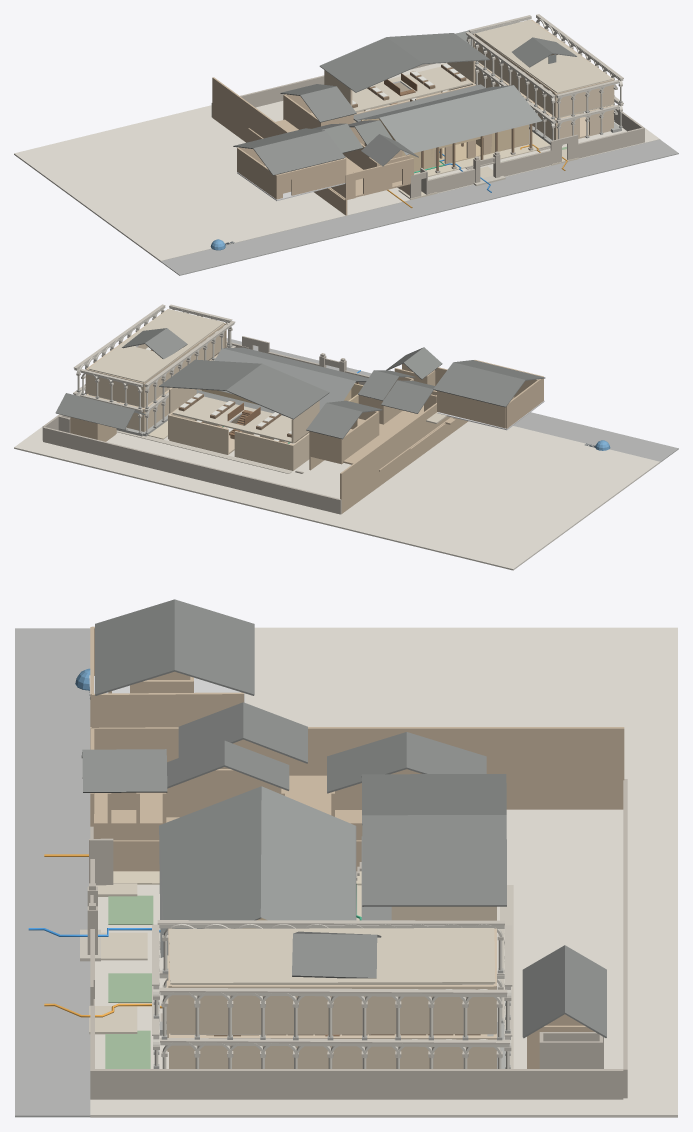
File: tung-wah-1870.glb
3 views of the same model, one above another, from view 1: azimuth 30°, elevation 25°; view 2: azimuth 150°, elevation 25°; view 3: azimuth 270°, elevation 25° (orthographic). The views are drawn at different scales.
Parts seen in each view (by area): view 1: site ground, front street, 立方體, 右側養病房 推定瓦頂, 後側養病房乙 二樓樓板.002, 西側附屬房 right, 後側養病房甲 二樓樓板.001, 藥房 推定瓦頂, 藥房 推定瓦頂.003, 藥房 推定瓦頂.002, 西側附屬房 frontL, 右側養病房 right.002 (+19 smaller); view 2: site ground, 右側養病房 推定瓦頂, 北院牆, 西側附屬房 right, 後側養病房乙 二樓樓板.002, front street, 立方體, 後側養病房甲 二樓樓板.001, 後勤附屬房 推定瓦頂, 藥房 推定瓦頂, 藥房 推定瓦頂.003, 後側養病房乙 back (+19 smaller); view 3: site ground, front street, 立方體, 右側養病房 推定瓦頂, 西側附屬房 right, 東院牆, 後側養病房乙 二樓樓板.002, 右側養病房 right.001, 右側養病房 right, 藥房 推定瓦頂.002, 後勤附屬房 推定瓦頂, 藥房 推定瓦頂.003 (+26 smaller).
Part boxes in pixels (x1,y1,x2,y2): site ground: (14, 62, 659, 261); front street: (161, 139, 678, 275); 立方體: (356, 85, 542, 154); 右側養病房 推定瓦頂: (319, 33, 489, 92); 後側養病房乙 二樓樓板.002: (475, 19, 612, 93); 西側附屬房 right: (212, 77, 347, 215); 後側養病房甲 二樓樓板.001: (352, 66, 471, 112); 藥房 推定瓦頂: (280, 84, 356, 122); 藥房 推定瓦頂.003: (233, 137, 309, 175); 藥房 推定瓦頂.002: (269, 128, 345, 166); 西側附屬房 frontL: (291, 158, 345, 195); 右側養病房 right.002: (475, 35, 555, 115); site ground: (14, 421, 660, 570); 右側養病房 推定瓦頂: (159, 359, 329, 419); 北院牆: (43, 427, 341, 514); 西側附屬房 right: (340, 403, 467, 513); 後側養病房乙 二樓樓板.002: (88, 309, 224, 382); front street: (226, 338, 678, 462); 立方體: (214, 347, 368, 410); 後側養病房甲 二樓樓板.001: (172, 396, 291, 442); 後勤附屬房 推定瓦頂: (55, 393, 145, 430); 藥房 推定瓦頂: (306, 400, 382, 439); 藥房 推定瓦頂.003: (469, 368, 545, 407); 後側養病房乙 back: (169, 415, 228, 453); site ground: (90, 627, 677, 1117); front street: (15, 628, 90, 1117); 立方體: (159, 786, 356, 957); 右側養病房 推定瓦頂: (361, 774, 506, 906); 西側附屬房 right: (90, 727, 624, 809); 東院牆: (90, 1069, 623, 1099); 後側養病房乙 二樓樓板.002: (169, 928, 495, 984); 右側養病房 right.001: (172, 985, 496, 1034); 右側養病房 right: (171, 1036, 496, 1068); 藥房 推定瓦頂.002: (95, 634, 254, 695); 後勤附屬房 推定瓦頂: (522, 945, 606, 1038); 藥房 推定瓦頂.003: (95, 599, 254, 658).
Size of the model in its own units: 76.55 by 11.18 by 44.
